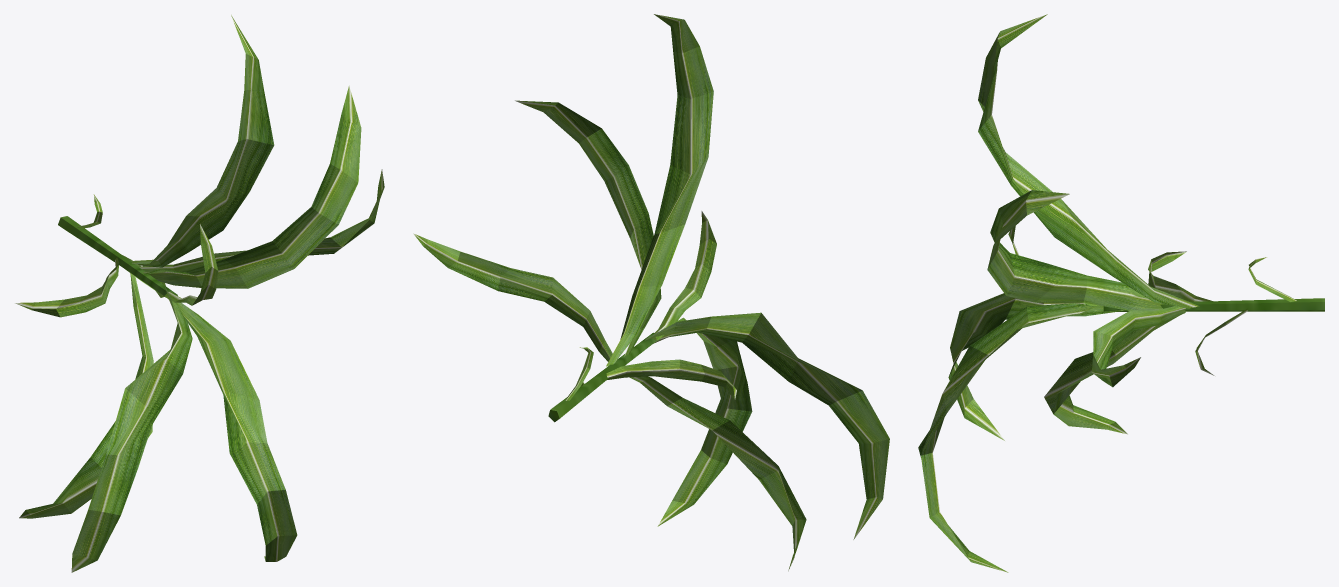
The model's file is maize_big_2.obj.
3 renders of one model, left to right at view 1: azimuth 30°, elevation 25°; view 2: azimuth 150°, elevation 25°; view 3: azimuth 270°, elevation 25°, orthographic. The views are drawn at different scales.
Parts seen in each view (by area): view 1: maize_big_unit.004_Plane.010; view 2: maize_big_unit.004_Plane.010; view 3: maize_big_unit.004_Plane.010.
Part boxes in pixels (x1=…): maize_big_unit.004_Plane.010: x1=15, y1=15, x2=384, y2=572; maize_big_unit.004_Plane.010: x1=413, y1=14, x2=889, y2=571; maize_big_unit.004_Plane.010: x1=918, y1=14, x2=1324, y2=572.
Size of the model in its own units: 0.4711 by 0.6131 by 0.4098.
1 material, 1 textured.
